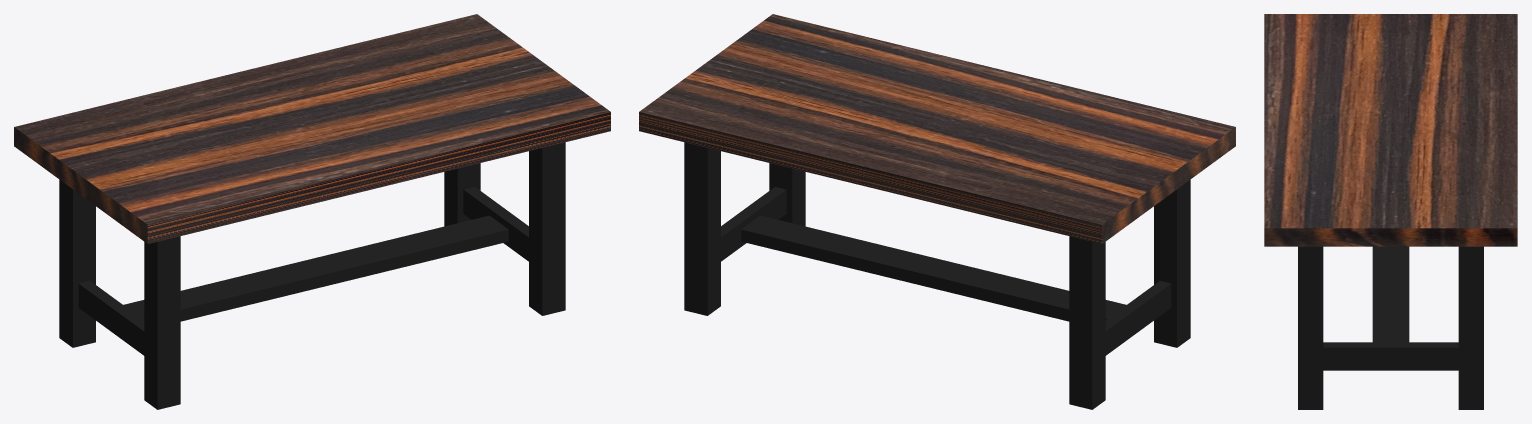
Rendered from Table.fbx.
3 renders of one model, left to right at view 1: azimuth 30°, elevation 25°; view 2: azimuth 150°, elevation 25°; view 3: azimuth 270°, elevation 25°, orthographic. The views are drawn at different scales.
Parts seen in each view (by area): view 1: Table Surface, Leg, Center Stretcher, Side Stretcher; view 2: Table Surface, Leg, Center Stretcher, Side Stretcher; view 3: Table Surface, Leg, Side Stretcher, Center Stretcher.
Boxes of the visible parts, box(x1,y1,x2,y2) form: Table Surface: box(14, 14, 610, 243); Leg: box(59, 142, 565, 409); Center Stretcher: box(123, 215, 508, 321); Side Stretcher: box(78, 187, 528, 355); Table Surface: box(639, 14, 1235, 243); Leg: box(684, 142, 1190, 409); Center Stretcher: box(741, 215, 1126, 321); Side Stretcher: box(721, 187, 1171, 355); Table Surface: box(1264, 14, 1517, 246); Leg: box(1298, 246, 1483, 409); Side Stretcher: box(1323, 342, 1458, 370); Center Stretcher: box(1372, 246, 1409, 342).
Bounding box in the file's own units: 2000 × 846 × 1000.
Materials: 2 (1 with a texture image).
